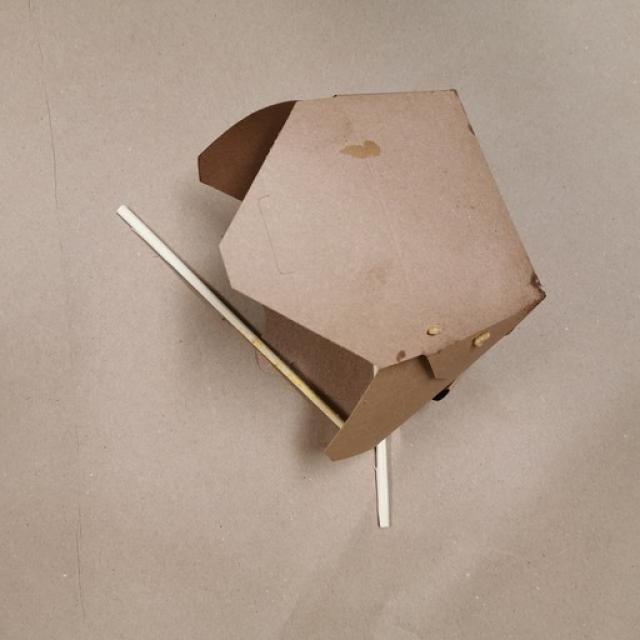PaperCardboard: (187, 92, 547, 448)
